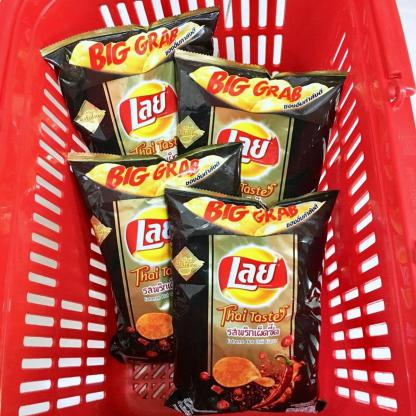potatochip: (164, 41, 351, 292), (155, 177, 346, 416), (58, 138, 254, 368), (37, 4, 224, 209)
